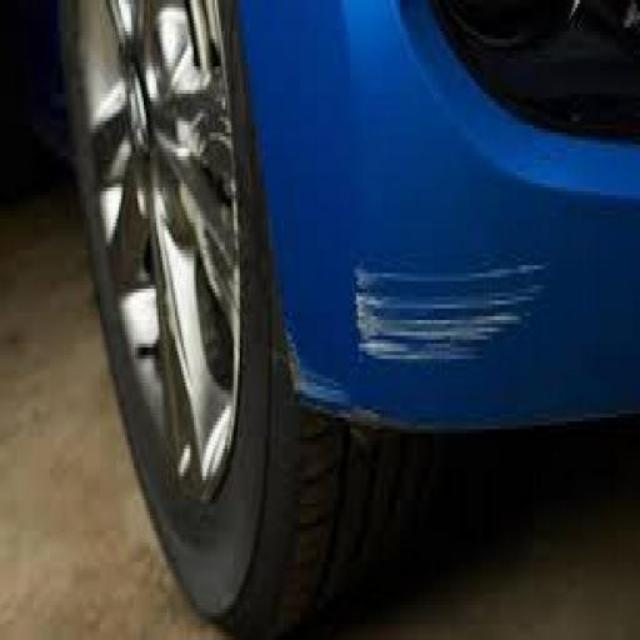rub: (354, 261, 544, 367)
scratch: (288, 322, 383, 427)
